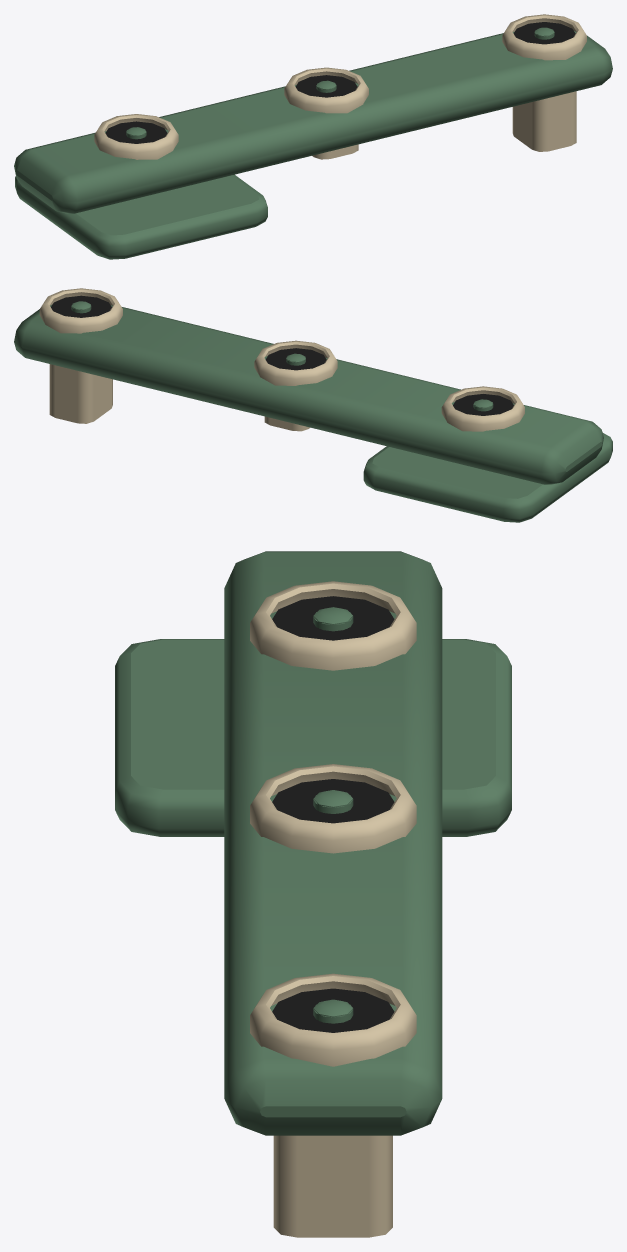
Rendered from t200_fan.obj.
3 renders of one model, top to bottom at view 1: azimuth 30°, elevation 25°; view 2: azimuth 150°, elevation 25°; view 3: azimuth 270°, elevation 25°, orthographic. The views are drawn at different scales.
Visible parts, largest first — view 1: t200_fan; view 2: t200_fan; view 3: t200_fan.
Part boxes in pixels (left/top/right/bottom): t200_fan: left=14, top=14, right=612, bottom=259; t200_fan: left=14, top=288, right=612, bottom=522; t200_fan: left=115, top=551, right=511, bottom=1237.
Bounding box in the file's own units: 6.4 × 1.18 × 2.
